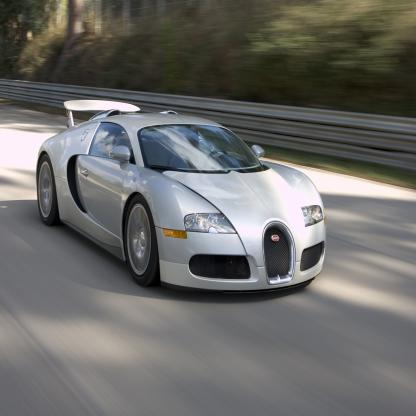Vehicle: (34, 96, 329, 298)
